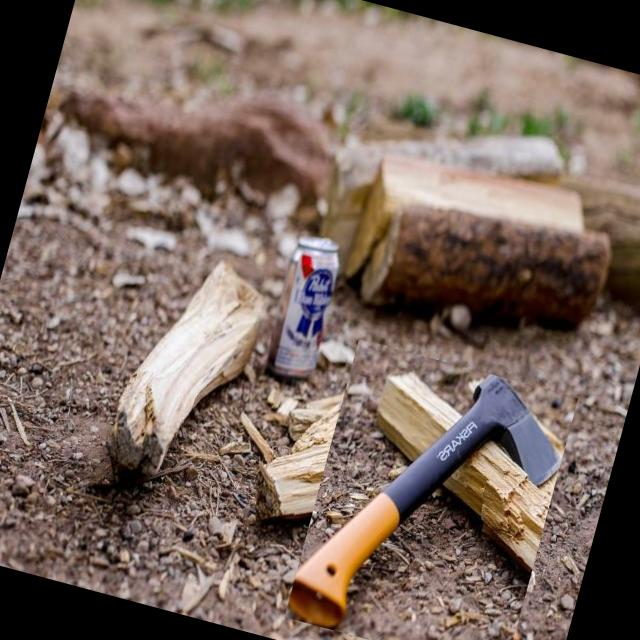Axe: (288, 376, 560, 628)
